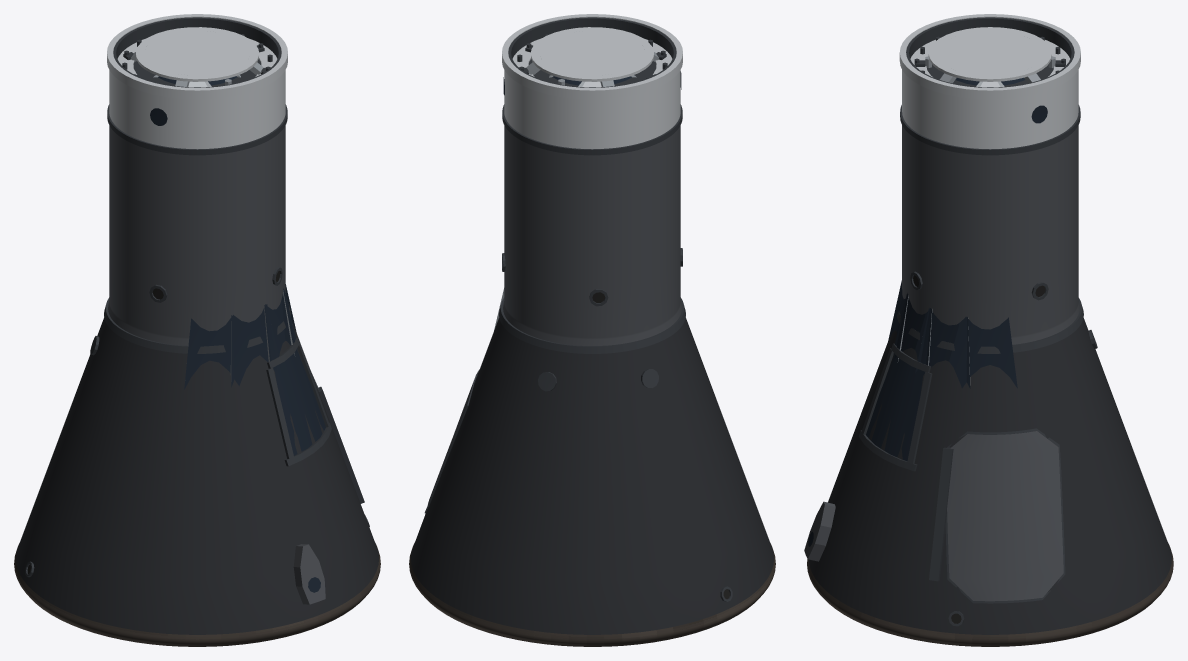
The model's file is capsule_mercury.glb.
3 renders of one model, left to right at view 1: azimuth 30°, elevation 25°; view 2: azimuth 150°, elevation 25°; view 3: azimuth 270°, elevation 25°, orthographic.
Parts seen in each view (by area): view 1: body, slot_windows__panoramic, slot_docking__cbm; view 2: body, slot_docking__cbm; view 3: body, slot_windows__panoramic, slot_docking__cbm.
Part boxes in pixels (x1=…): body: x1=14, y1=14, x2=380, y2=646; slot_windows__panoramic: x1=184, y1=284, x2=297, y2=389; slot_docking__cbm: x1=117, y1=32, x2=277, y2=86; body: x1=409, y1=14, x2=775, y2=646; slot_docking__cbm: x1=512, y1=32, x2=672, y2=86; body: x1=804, y1=14, x2=1173, y2=646; slot_windows__panoramic: x1=888, y1=280, x2=1017, y2=388; slot_docking__cbm: x1=910, y1=36, x2=1069, y2=83.
Size of the model in its own units: 1.87 by 2.92 by 1.88.
Materials: 20 (1 with a texture image).
